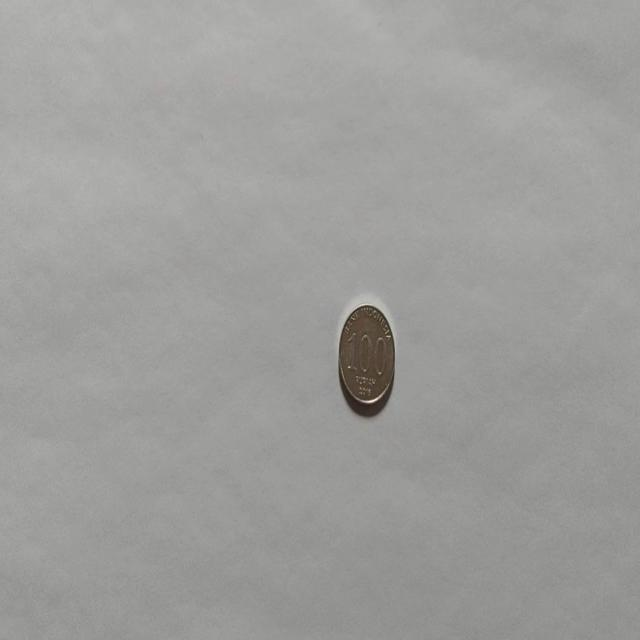seratus rupiah: (337, 301, 395, 411)
